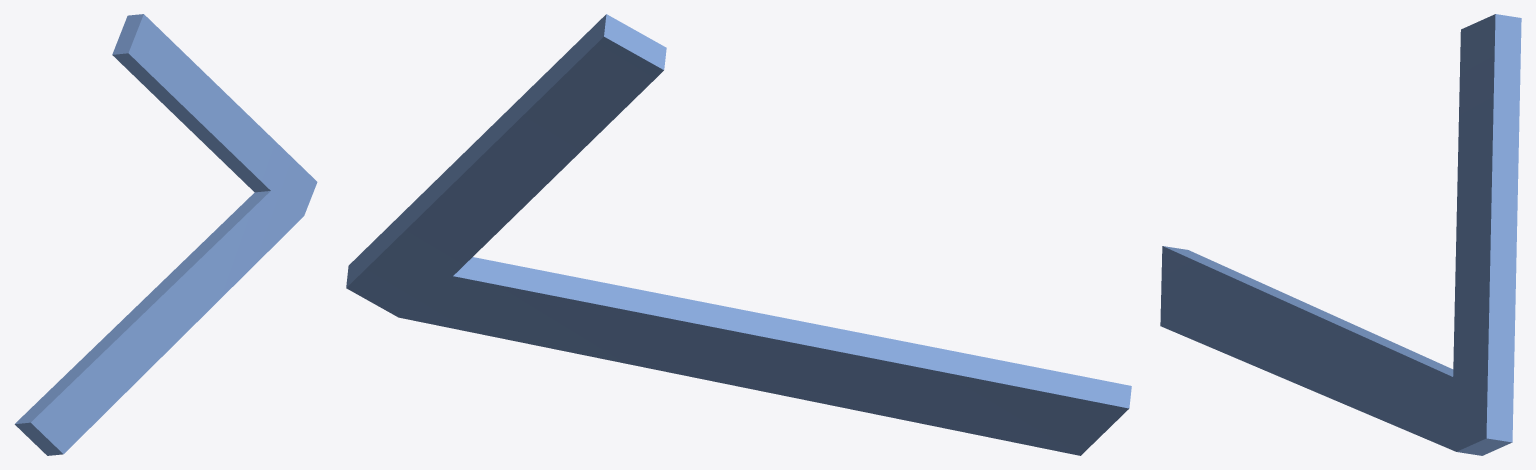
File: New_Number_7.gltf
3 renders of one model, left to right at view 1: azimuth 30°, elevation 25°; view 2: azimuth 150°, elevation 25°; view 3: azimuth 270°, elevation 25°, orthographic. The views are drawn at different scales.
Visible parts, largest first — view 1: Part 7; view 2: Part 7; view 3: Part 7.
Boxes of the visible parts, x1,y1,x2,y2 form: Part 7: [14, 14, 317, 455]; Part 7: [346, 14, 1131, 455]; Part 7: [1160, 14, 1521, 455].
Bounding box in the file's own units: 0.00567 × 0.00422 × 0.003.
